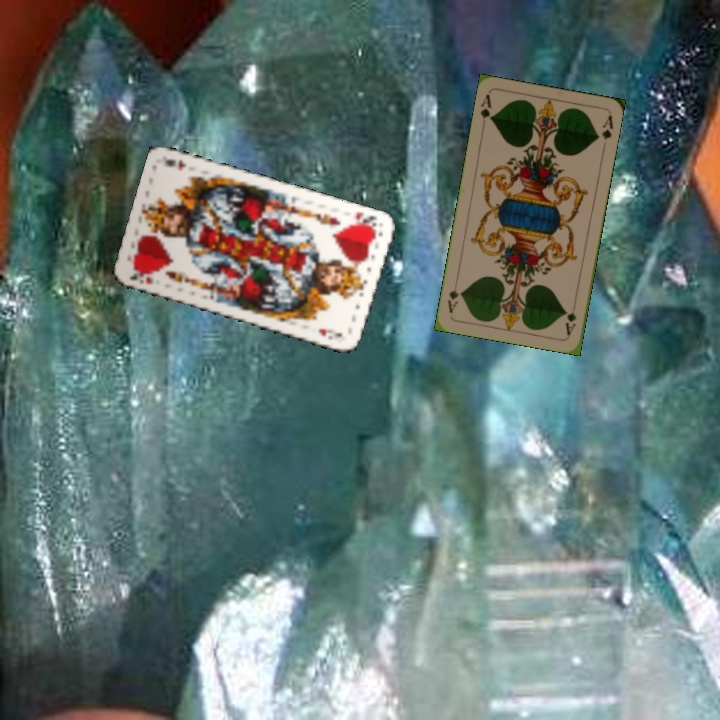GA: (476, 90, 495, 131), (561, 308, 579, 337)
HK: (351, 207, 380, 233), (126, 265, 156, 287)
